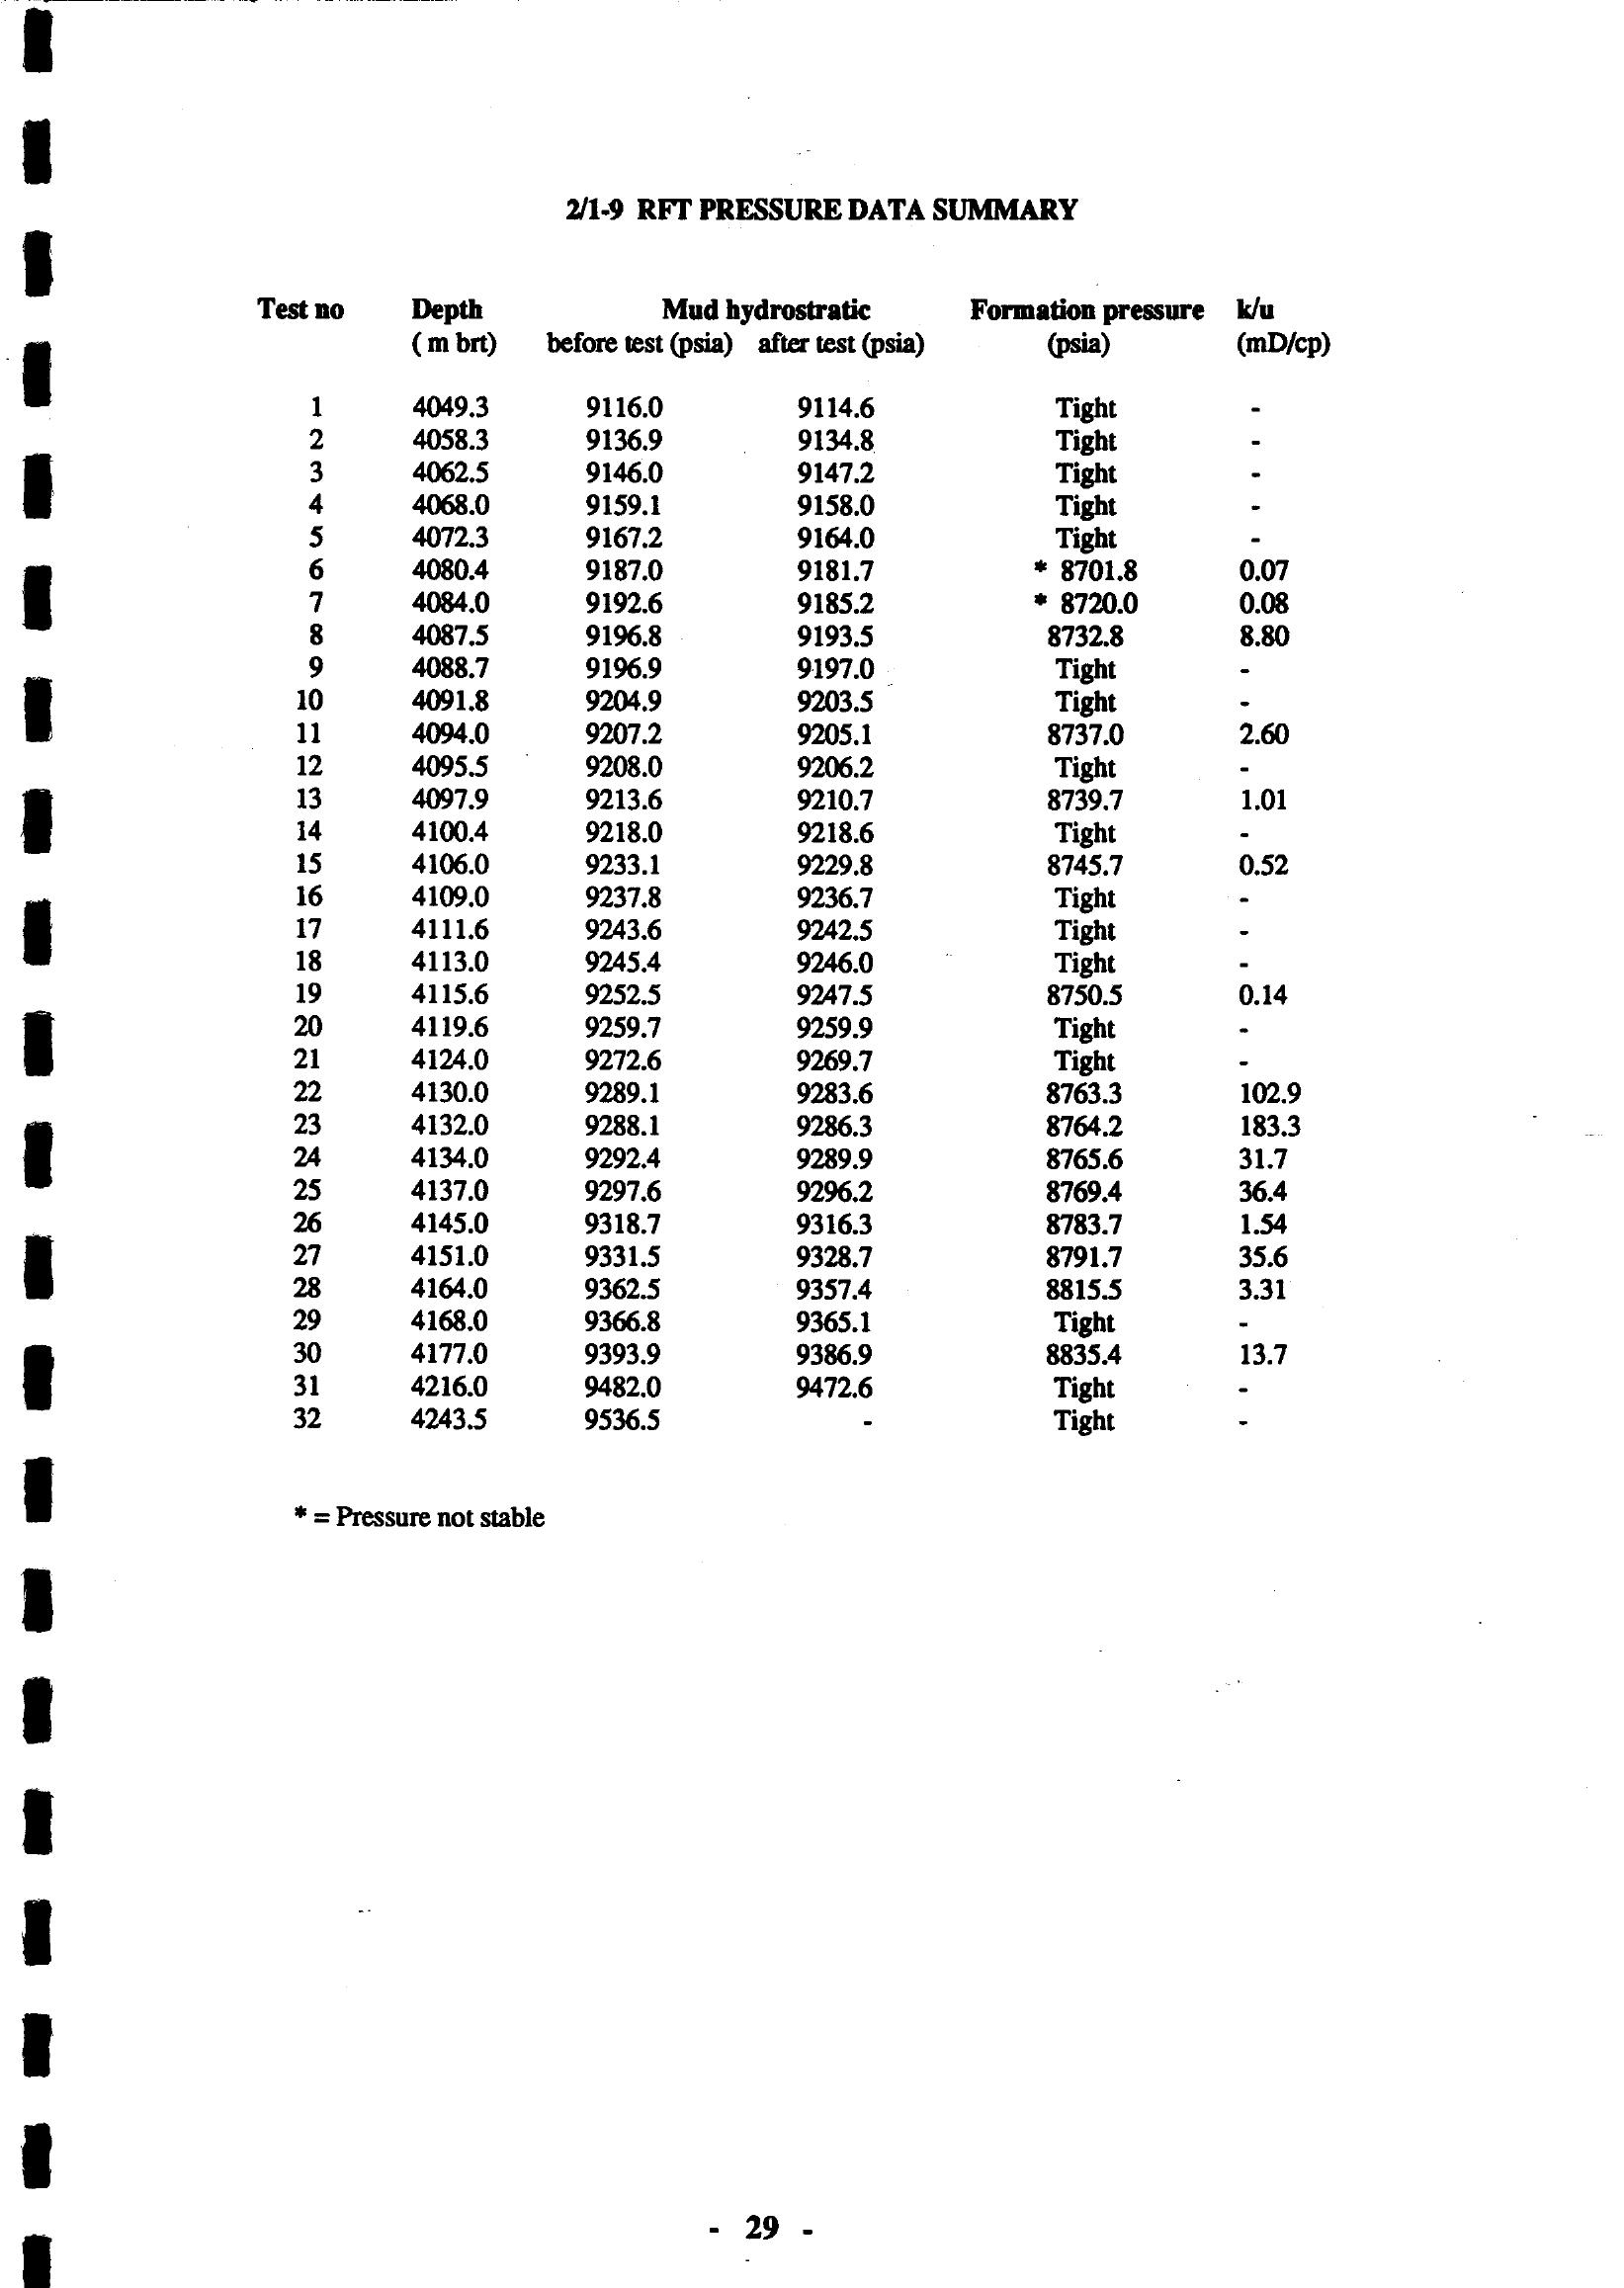table: (179, 158, 1374, 1460)
text: (260, 1492, 592, 1553)
